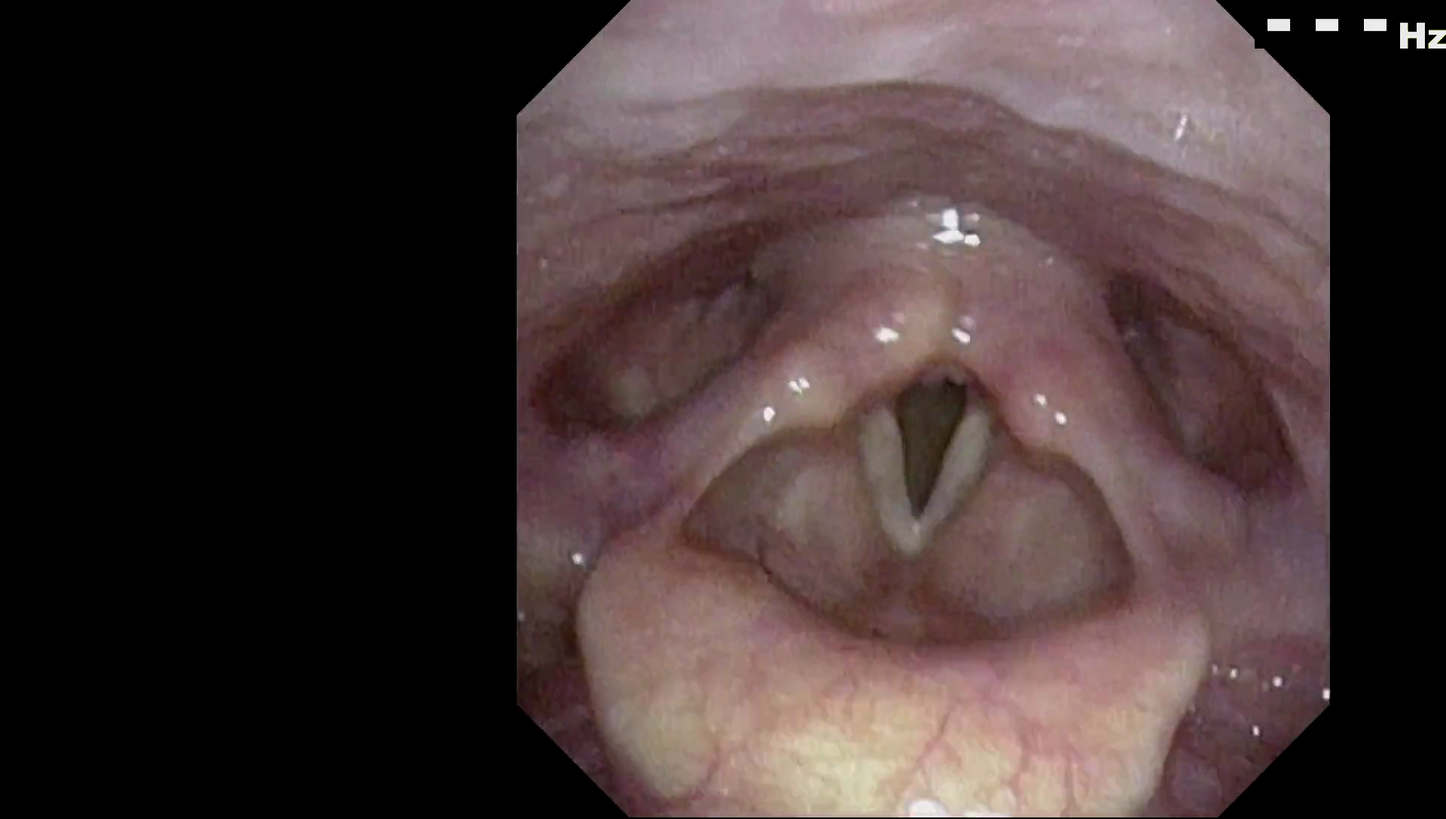trachea: (842, 358, 1017, 577)
